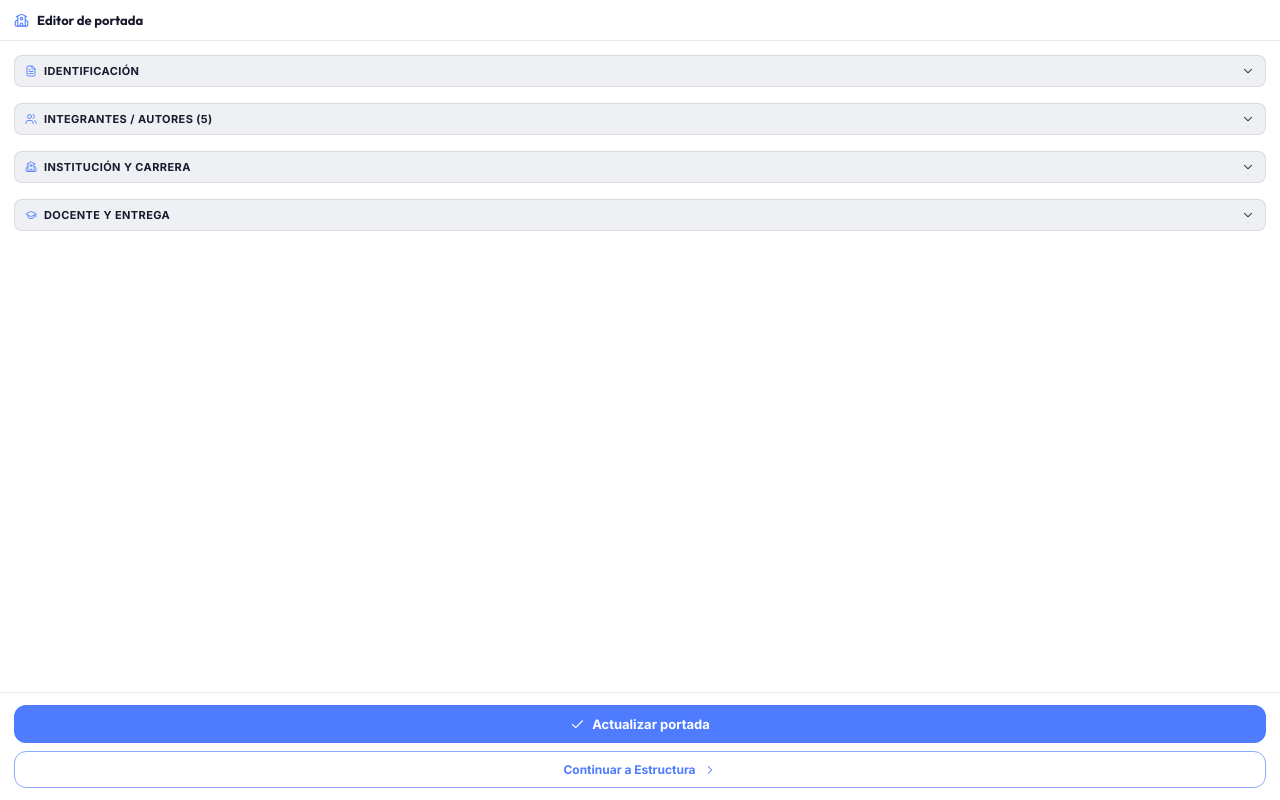
Test: editor de portada: datos inferidos y secciones › Integrantes / Autores es una sección plegable, cerrada, con el conteo
Expected: the field showing "2022-0215I" is not shown
Step 1. Click the button "Integrantes / Autores (5)" → (128, 119), box [14,103,1266,135]
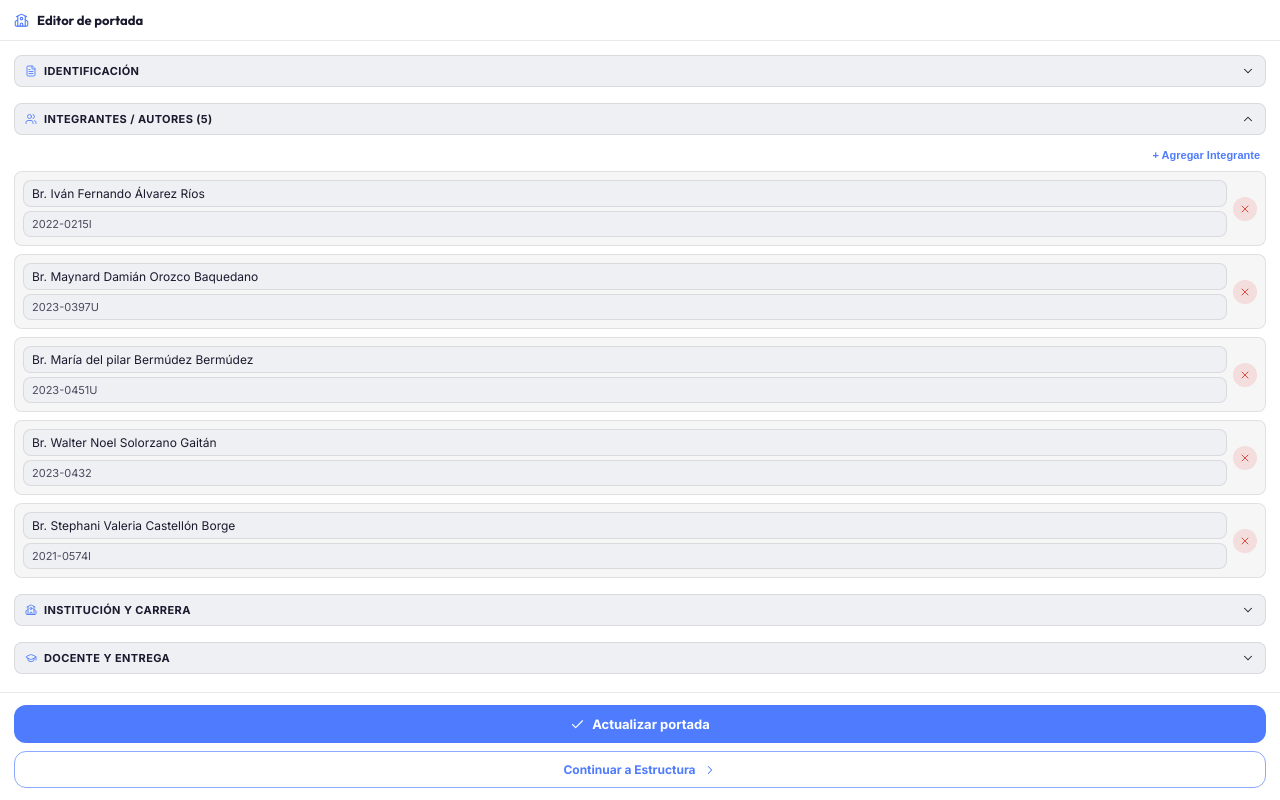
Expected: the 1st field showing "Br. Iván Fernando Álvarez Ríos" is shown, [23,180,1227,207]
Expected: the 2nd field showing "2022-0215I" is shown, [23,211,1227,237]
Expected: the 4th field showing "2023-0397U" is shown, [23,294,1227,320]
